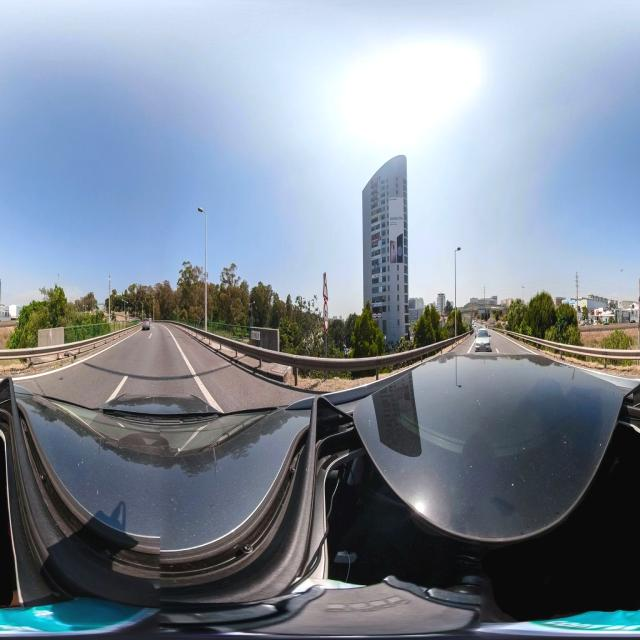car: (474, 327, 492, 352), (141, 318, 150, 330)
